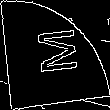M_W: (30, 30, 80, 80)
